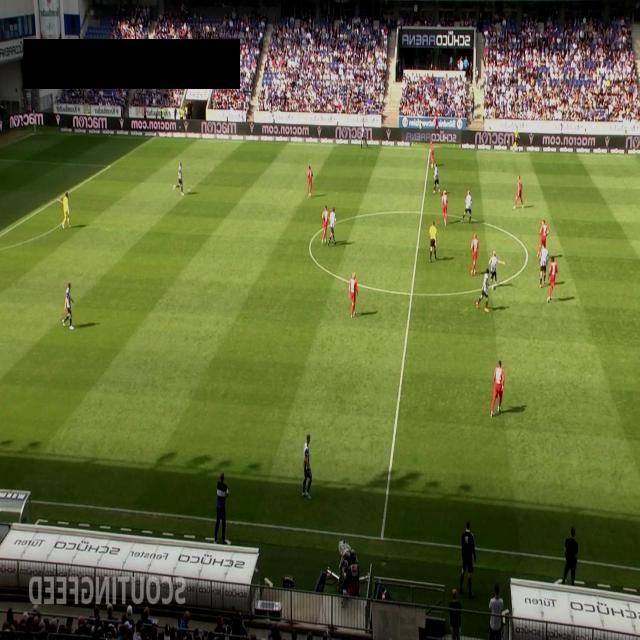goalkeeper: (61, 191, 71, 229)
player: (489, 360, 505, 418), (488, 251, 506, 291), (475, 268, 490, 312), (302, 433, 312, 499), (62, 282, 74, 330), (546, 255, 558, 302), (537, 219, 549, 260), (538, 240, 548, 288), (348, 272, 358, 318), (470, 232, 480, 276), (512, 174, 524, 210), (320, 204, 330, 245), (172, 161, 184, 195), (461, 190, 473, 223), (328, 207, 337, 247), (360, 124, 370, 150), (433, 162, 441, 194), (428, 140, 436, 170), (442, 190, 448, 226), (307, 164, 313, 198)
referee: (428, 220, 438, 263), (512, 125, 520, 153)
